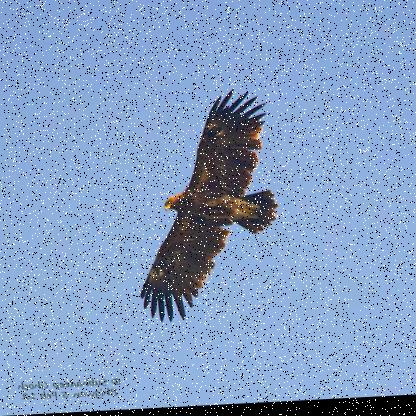Burung: (142, 90, 285, 326)
